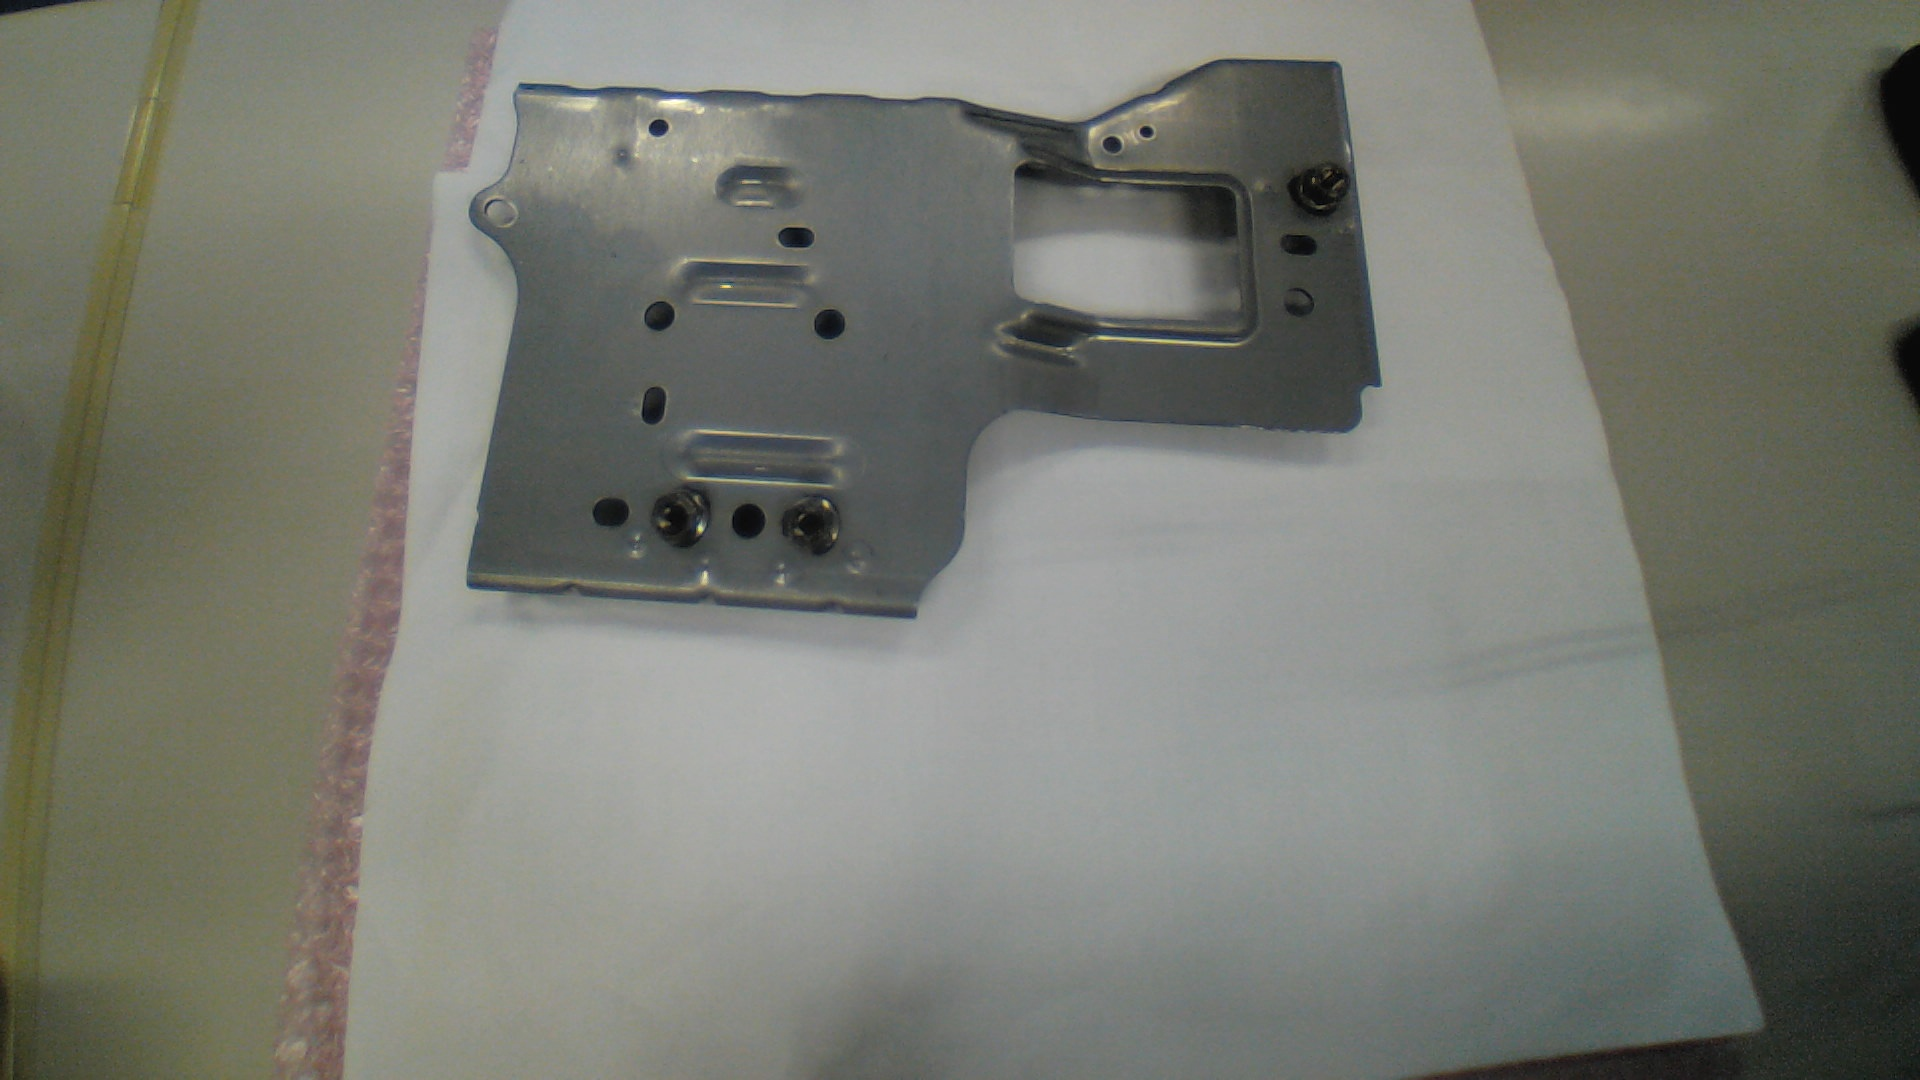dog: (1288, 161, 1353, 219), (781, 495, 839, 556), (654, 489, 707, 550)
